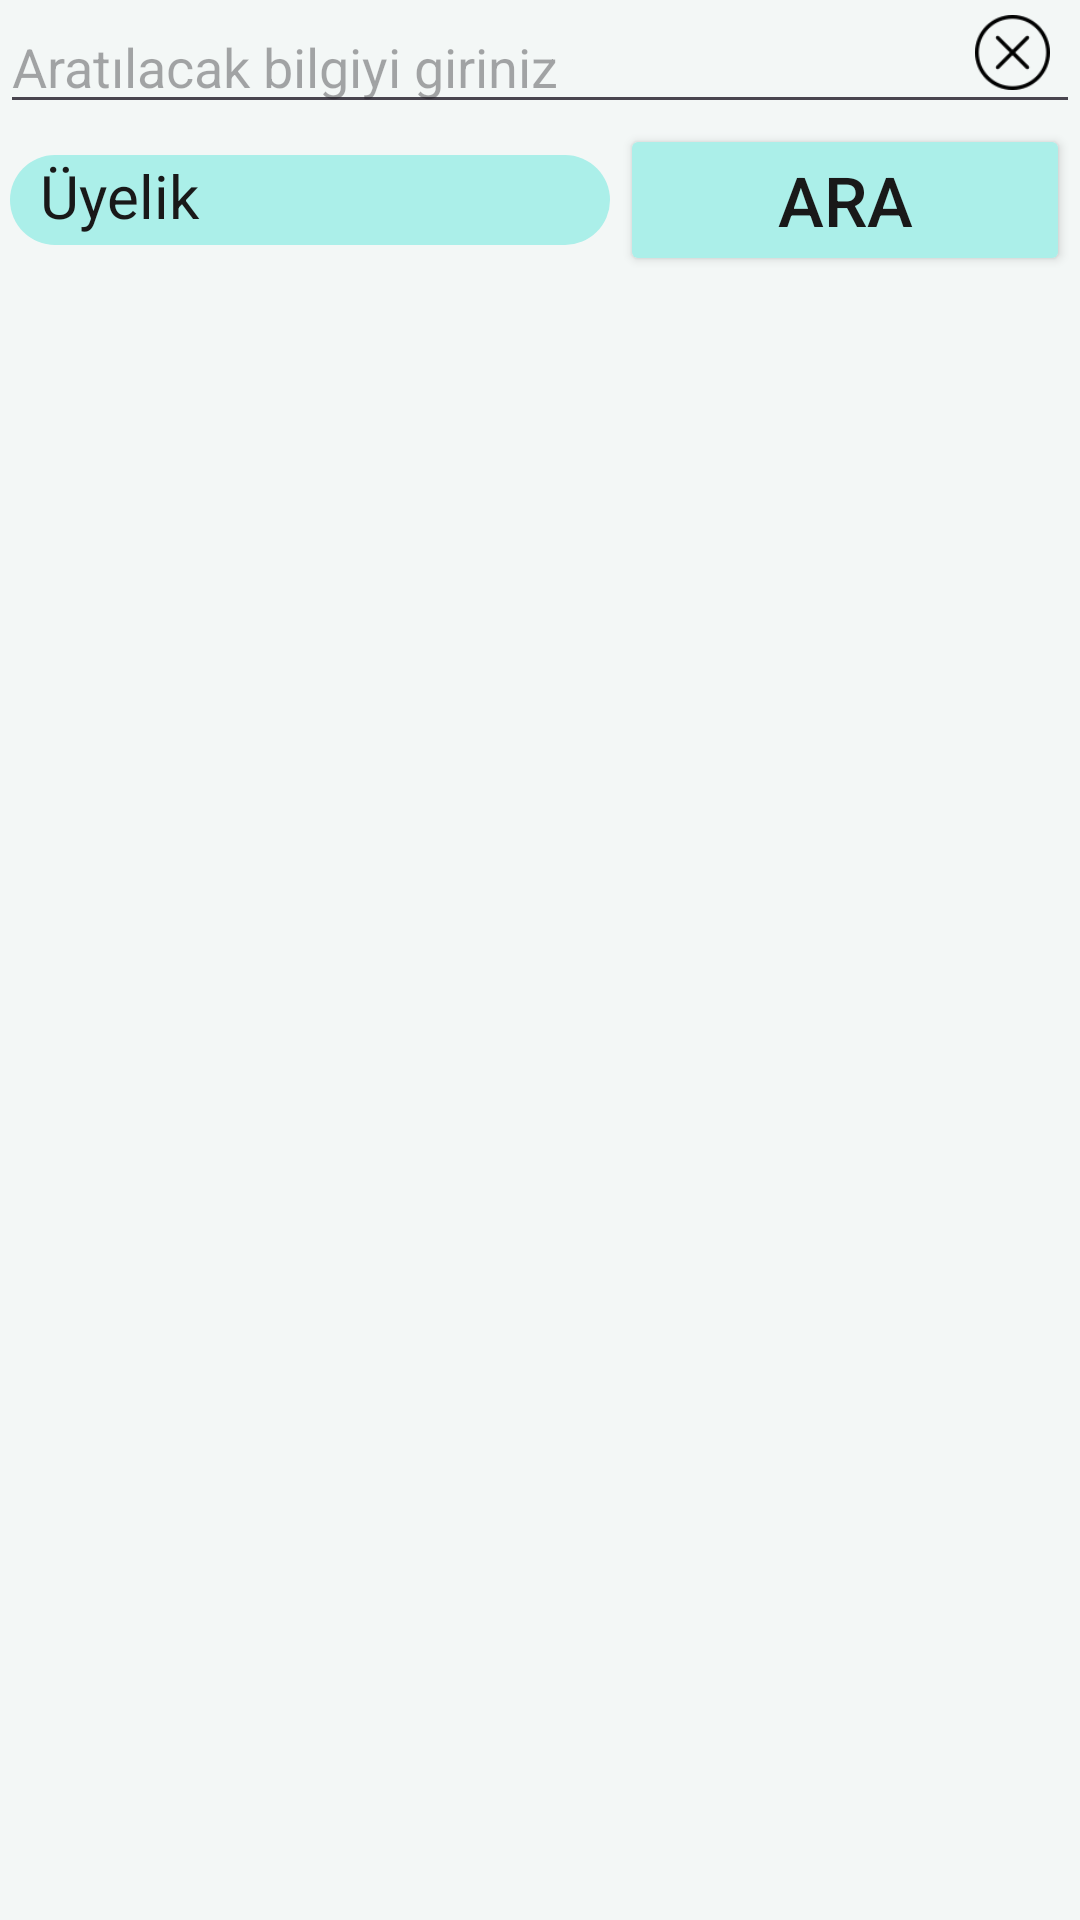

Named icons in this screenshot (1080w x 1920h) and their bounding boxes, (x1, y1, x2, y2):
crossicon: (975, 15, 1050, 90)
